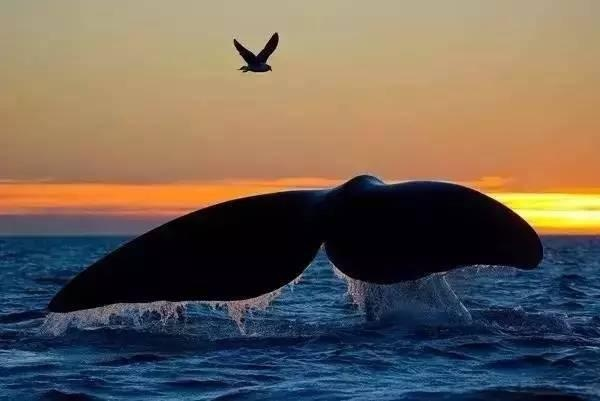bird: (229, 32, 283, 74)
fish: (33, 175, 545, 346)
